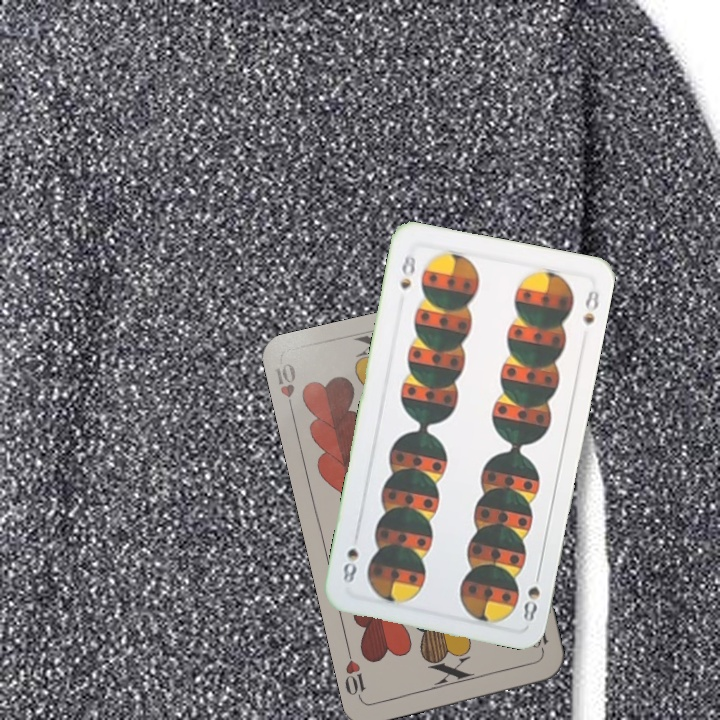H10: (271, 359, 298, 418)
S8: (519, 566, 543, 624), (396, 247, 419, 293)
